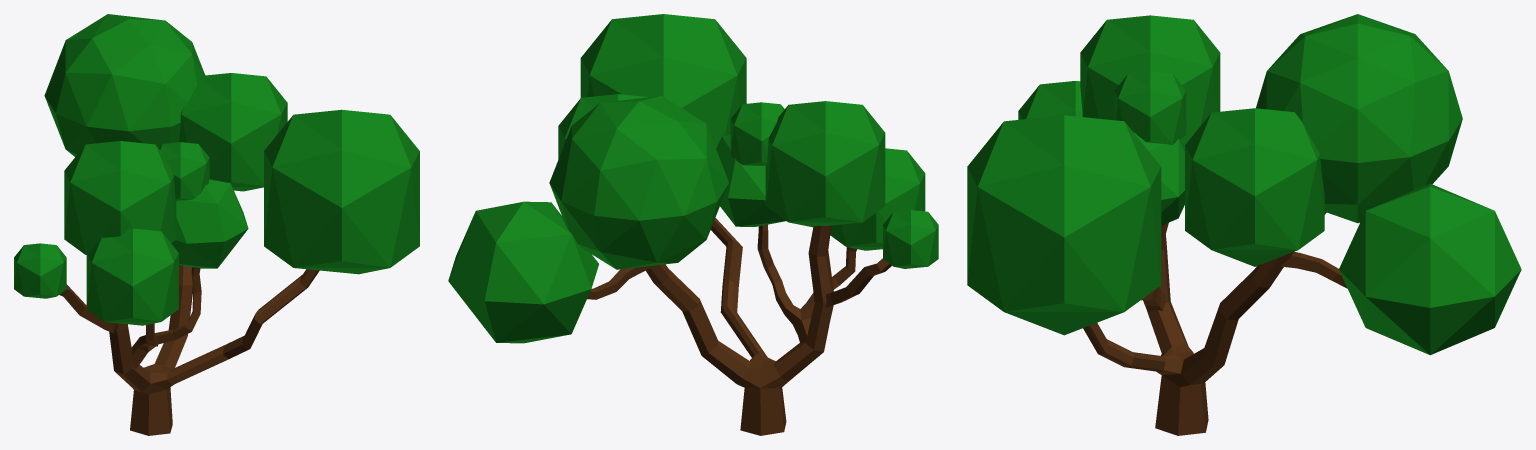
The model's file is Tree_1 (1).FBX.
3 renders of one model, left to right at view 1: azimuth 30°, elevation 25°; view 2: azimuth 150°, elevation 25°; view 3: azimuth 270°, elevation 25°, orthographic. The views are drawn at different scales.
Visible parts, largest first — view 1: Tree 1; view 2: Tree 1; view 3: Tree 1.
Part boxes in pixels (box(x1,y1,x2,y2)): Tree 1: box(14, 14, 419, 435); Tree 1: box(448, 14, 938, 435); Tree 1: box(967, 14, 1521, 435).
Size of the model in its own units: 2778 by 2491 by 2910.
